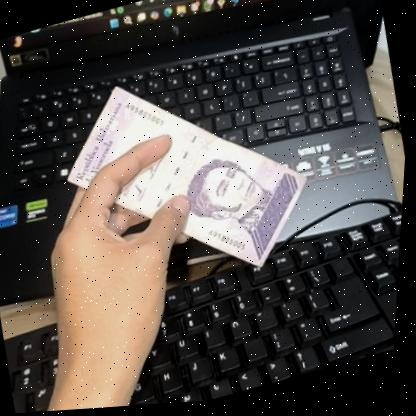vef_front: (45, 38, 334, 321)
